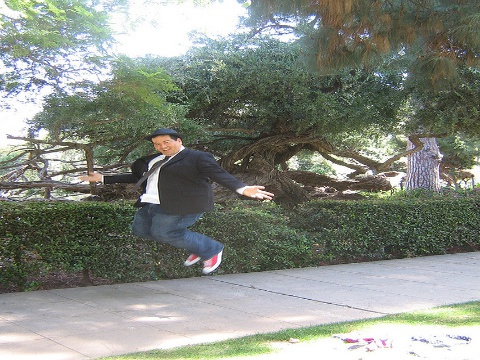hand: (240, 185, 274, 201), (76, 170, 102, 182)
